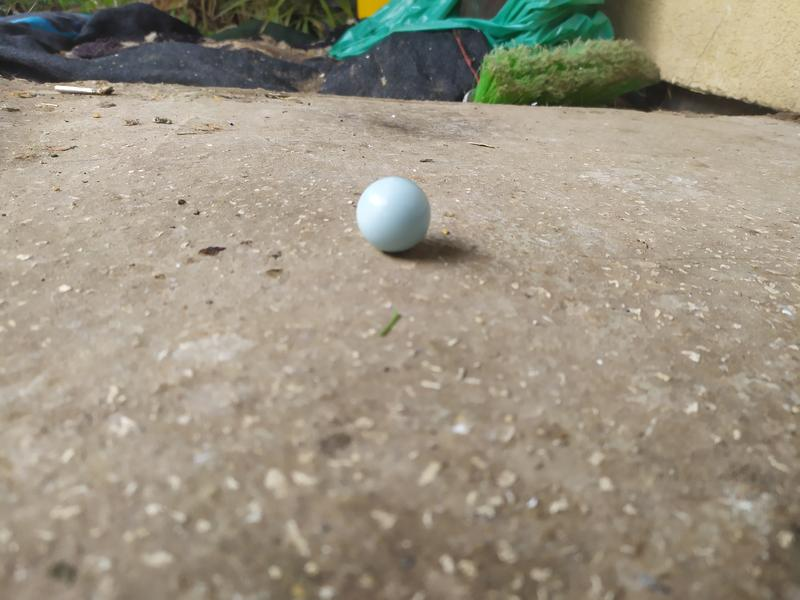Warning: (353, 174, 434, 256)
